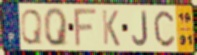C: (152, 9, 176, 48)
F: (73, 7, 98, 48)
J: (131, 10, 149, 48)
K: (101, 8, 121, 48)
Q: (43, 7, 70, 48), (20, 8, 43, 46)
